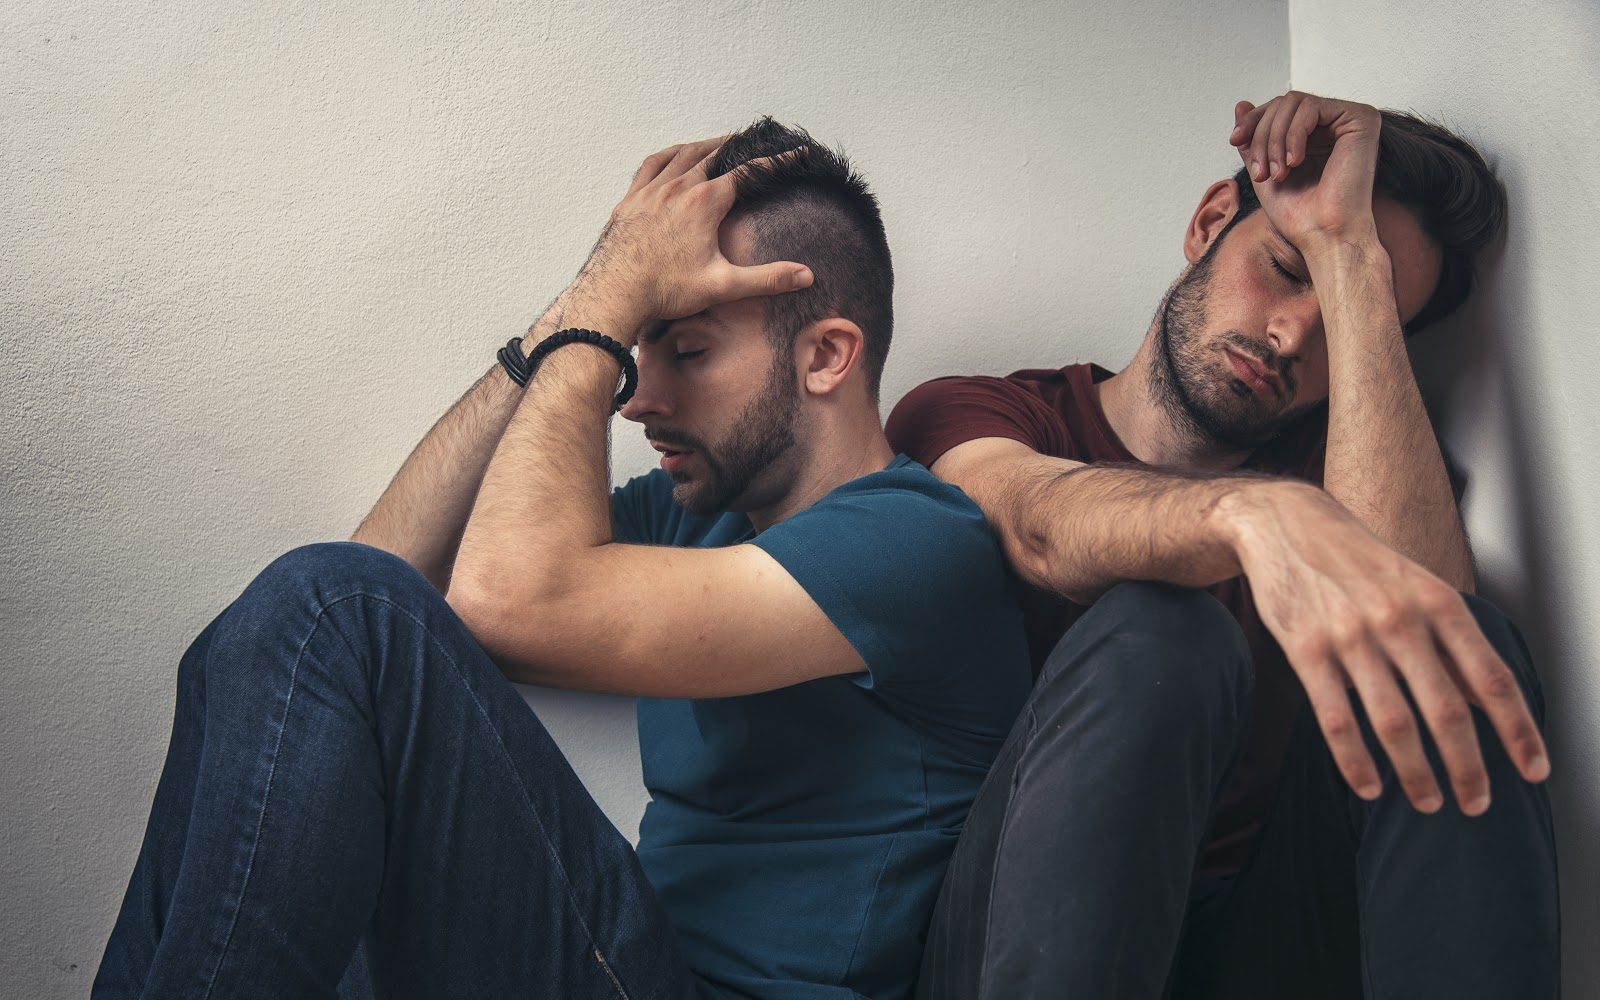human: (74, 113, 1028, 1000), (886, 84, 1600, 1000)
